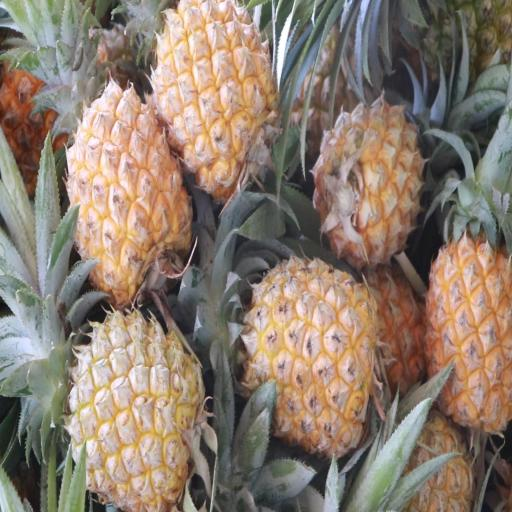Pineapple - v8 v1: (69, 309, 204, 512), (68, 86, 194, 298), (246, 260, 376, 457), (150, 2, 280, 188), (315, 98, 422, 262), (426, 228, 512, 430)
